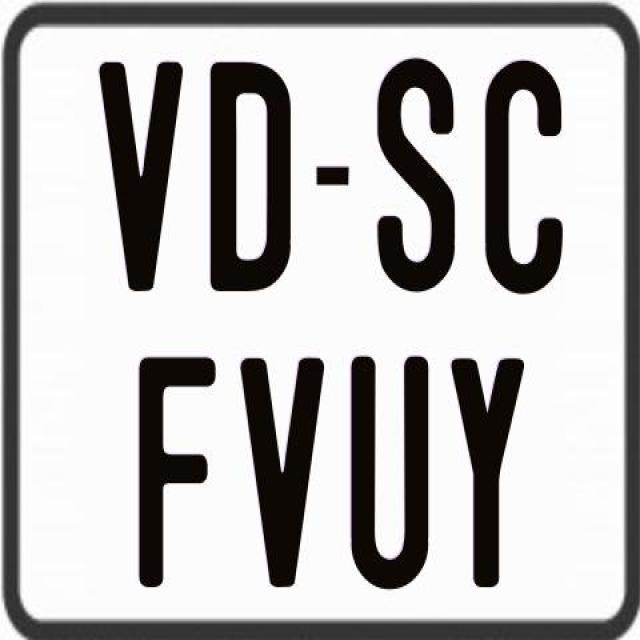C: (485, 56, 563, 296)
D: (208, 58, 288, 292)
F: (137, 355, 219, 592)
S: (373, 58, 455, 298)
U: (350, 356, 430, 594)
V: (98, 62, 188, 301), (238, 357, 326, 596)
Y: (450, 355, 530, 587)
